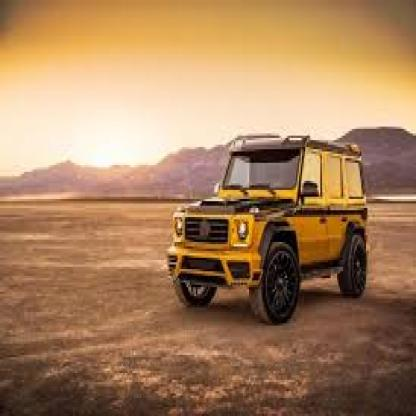car: (158, 110, 384, 344)
